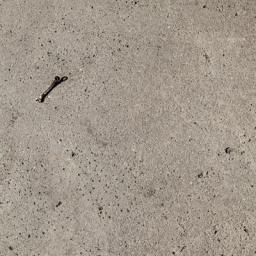FOD: (36, 67, 64, 110)
